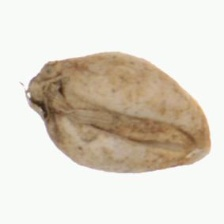L1: (21, 59, 59, 133), (176, 116, 213, 165)
L2: (24, 52, 212, 174)
